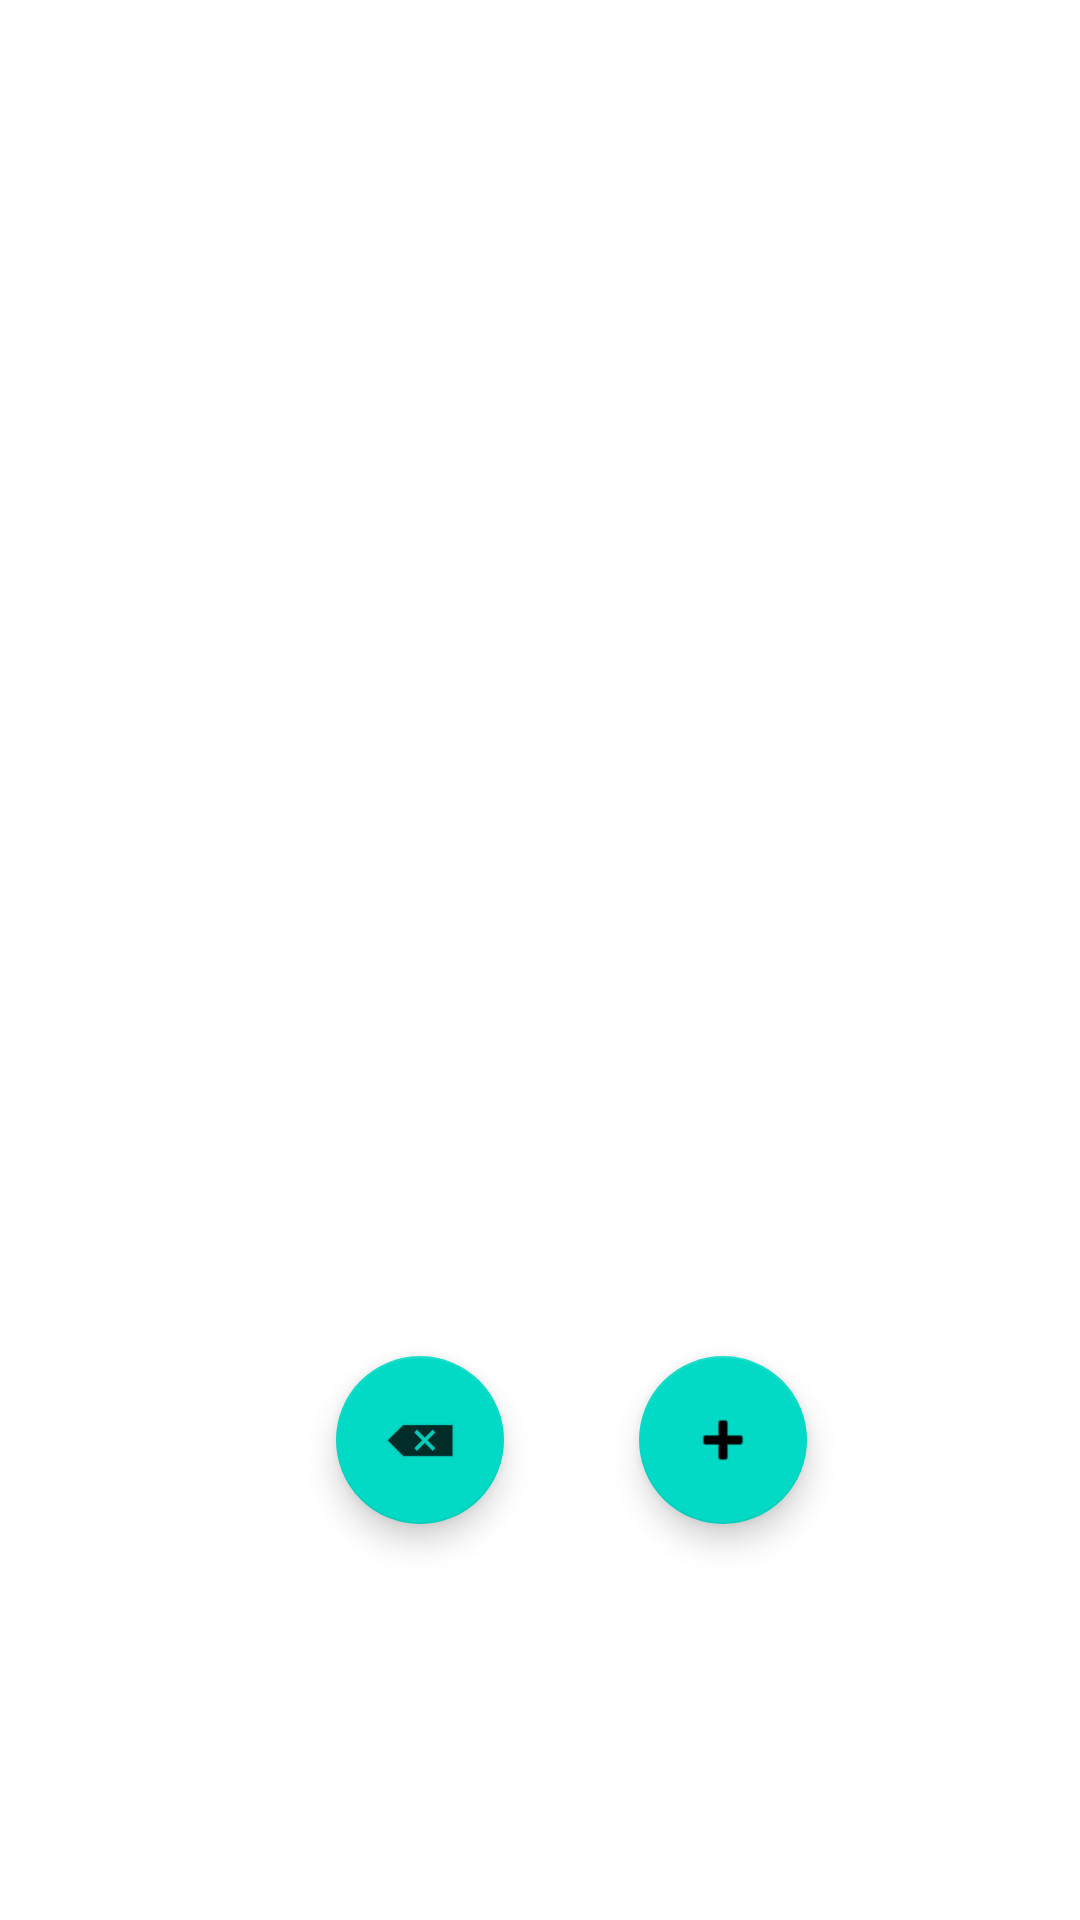

Icons on this 1080 x 1920 Android screen, each with its box as [x1, y1, x2, y2]:
add: [639, 1356, 807, 1524]
delete: [336, 1356, 504, 1524]
